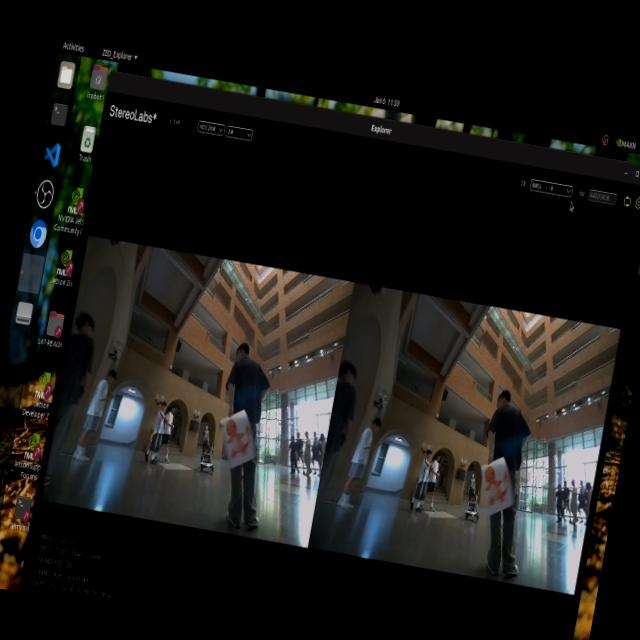red: (479, 467, 514, 515), (218, 418, 250, 463)
